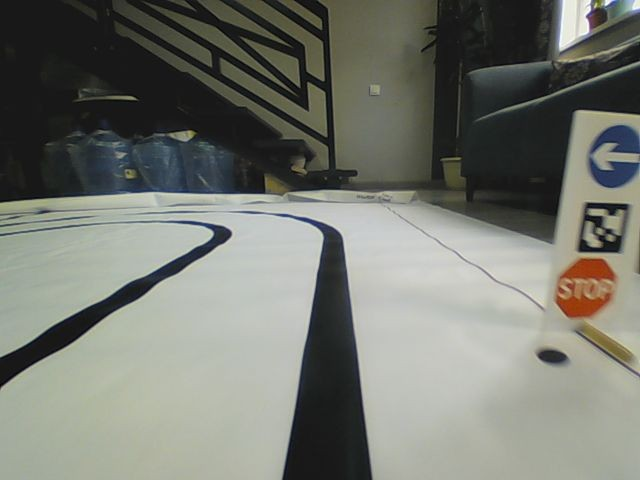Stop: (554, 258, 618, 320)
